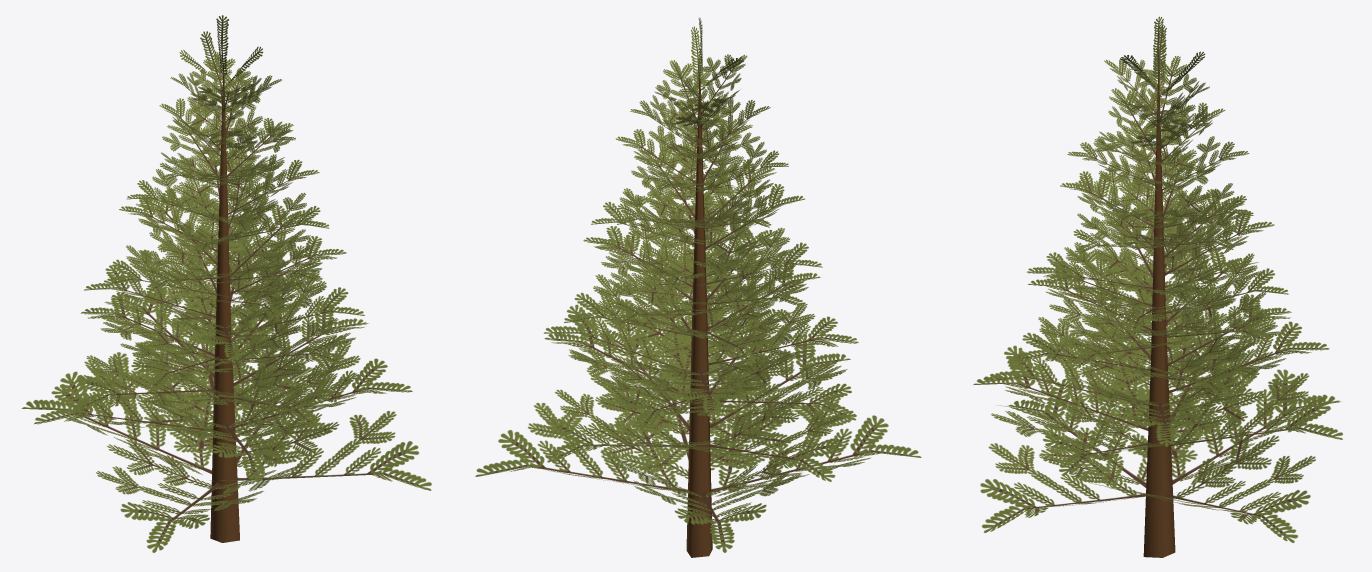
File: Fir_Tree_1.glb
3 views of the same model, side by side, from view 1: azimuth 30°, elevation 25°; view 2: azimuth 150°, elevation 25°; view 3: azimuth 270°, elevation 25° (orthographic). The views are drawn at different scales.
Visible parts, largest first — view 1: Fir_Tree_1; view 2: Fir_Tree_1; view 3: Fir_Tree_1.
Boxes of the visible parts, x1,y1,x2,y2 form: Fir_Tree_1: [21, 15, 431, 552]; Fir_Tree_1: [475, 17, 921, 557]; Fir_Tree_1: [973, 16, 1342, 557].
Bounding box in the file's own units: 4.85 × 7.13 × 4.82.
2 materials, 2 textured.
